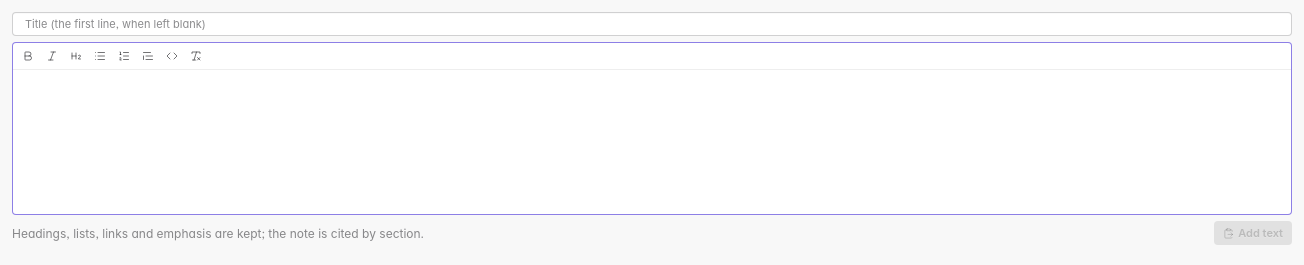
PastedTextEditor › cannot add nothing, and reports how much has been written
The width and height of the screenshot is (1304, 265).
Expected: the button "Add text" is disabled, [1214, 221, 1292, 245]
Clear the field named "Text to add" at point(652, 142), box [13, 70, 1291, 214]
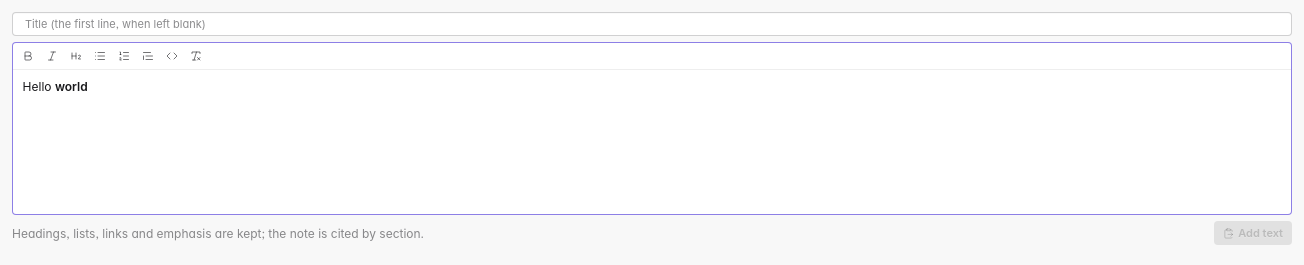
Expected: the button "Add text" is disabled, [1214, 221, 1292, 245]
Clear the field labelled "Hello world" at point(55, 86), box [23, 79, 88, 94]
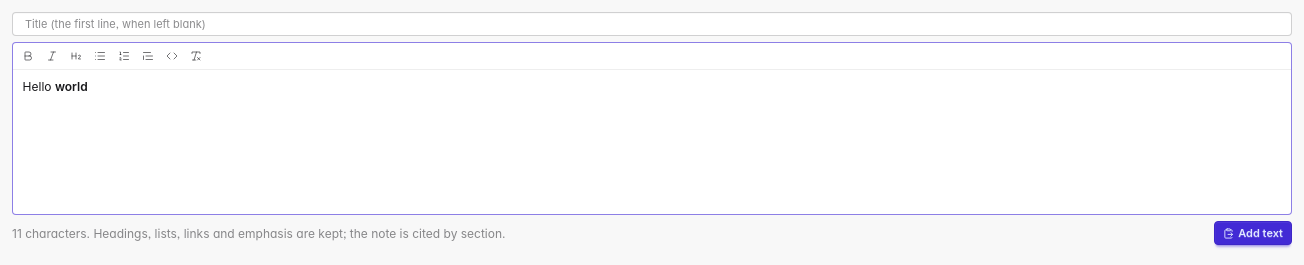
Expected: the button "Add text" is enabled, [1214, 221, 1292, 245]
Expected: the text "11 characters" is shown, [12, 226, 94, 240]
